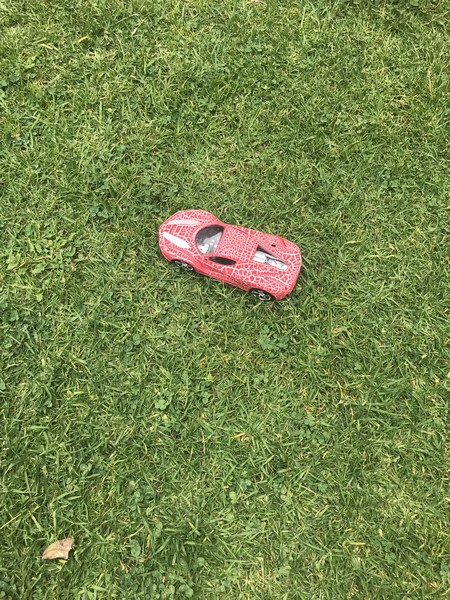RC: (156, 202, 304, 306)
